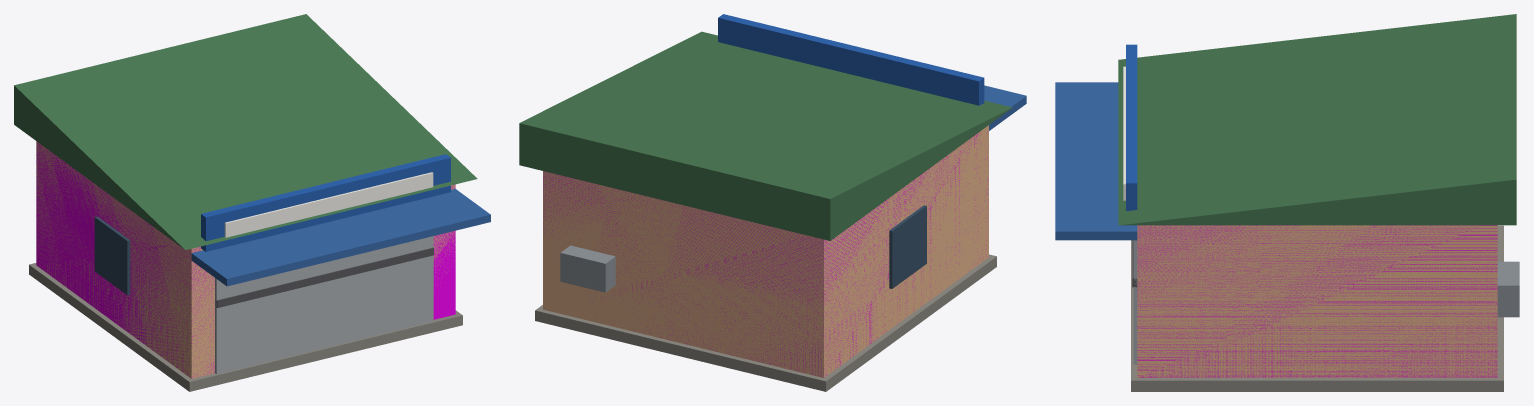
Rendered from Shop_1S_04.glb.
The picture shows the model from 3 angles, left to right: view 1: azimuth 30°, elevation 25°; view 2: azimuth 150°, elevation 25°; view 3: azimuth 270°, elevation 25°; orthographic projection. The views are drawn at different scales.
Visible parts, largest first — view 1: Shop_1S_04, Shop_1S_04_COL; view 2: Shop_1S_04, Shop_1S_04_COL; view 3: Shop_1S_04, Shop_1S_04_COL.
Part boxes in pixels (x1,y1,x2,y2): Shop_1S_04: (14,14,490,391); Shop_1S_04_COL: (36,142,455,378); Shop_1S_04: (519,14,1026,391); Shop_1S_04_COL: (543,133,988,377); Shop_1S_04: (1055,14,1519,391); Shop_1S_04_COL: (1137,225,1497,377).
Size of the model in its own units: 6.2 by 3.8 by 7.35.
